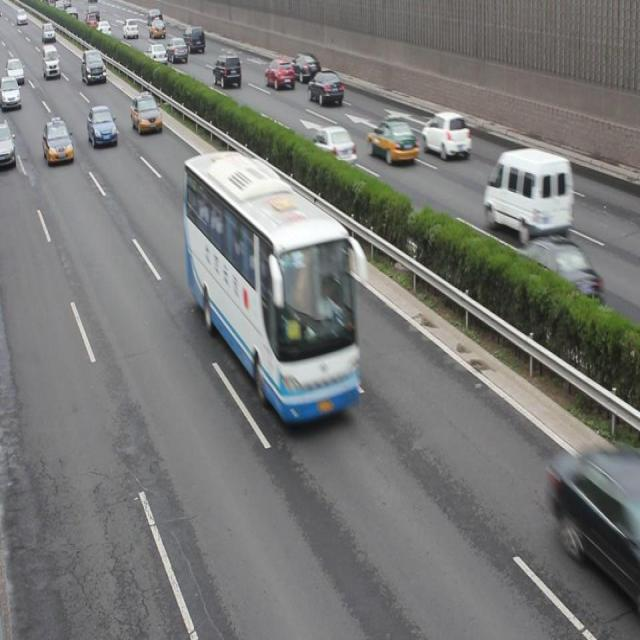car: (548, 448, 640, 593), (514, 239, 599, 300), (422, 110, 471, 160), (367, 120, 417, 166), (311, 128, 356, 166), (43, 118, 73, 164), (87, 106, 117, 146), (131, 94, 162, 132), (308, 70, 343, 103), (212, 54, 241, 88), (264, 56, 294, 88), (288, 52, 318, 81), (81, 50, 106, 84), (1, 74, 21, 110), (0, 124, 16, 166), (165, 38, 188, 62), (1, 59, 24, 83), (145, 44, 167, 66), (150, 17, 166, 39), (122, 20, 138, 40)
truck: (484, 146, 574, 242), (42, 44, 61, 79), (180, 26, 205, 52)
van: (182, 149, 367, 428)
